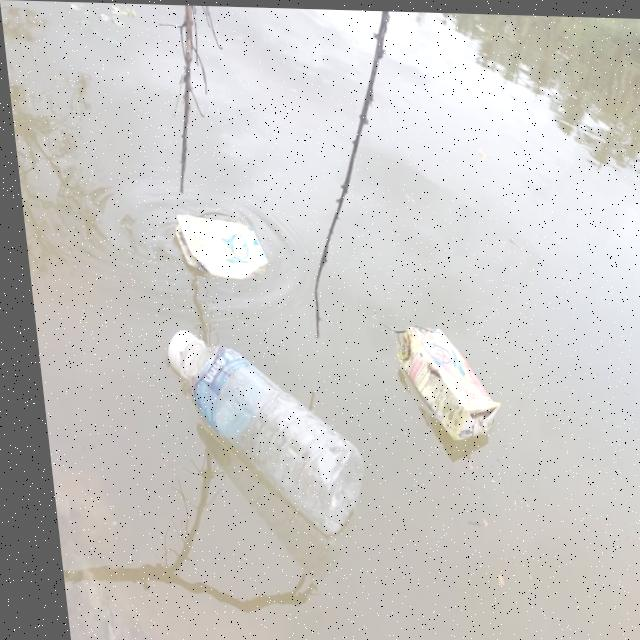paper: (377, 305, 491, 454), (166, 200, 283, 274)
waterbottle: (126, 314, 362, 530)
